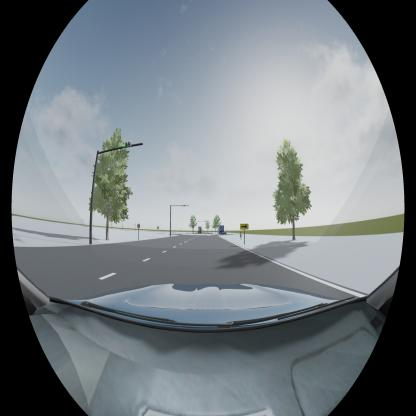Green Light: (122, 142, 132, 147)
Red Light: (182, 205, 186, 206)
Speed Limit 30: (137, 223, 140, 228)
